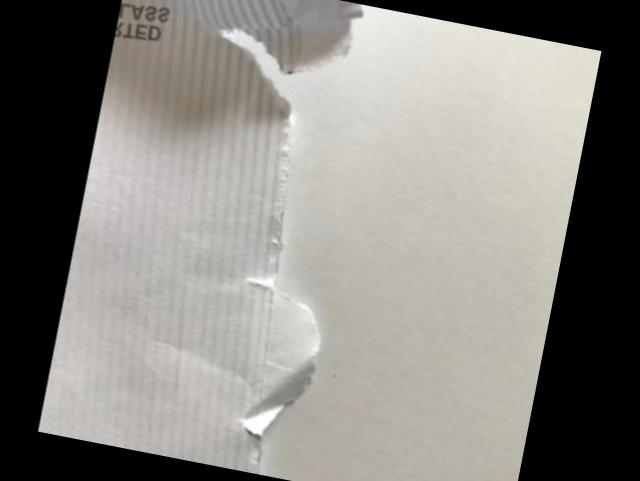cardboard paper: (39, 0, 357, 473)
